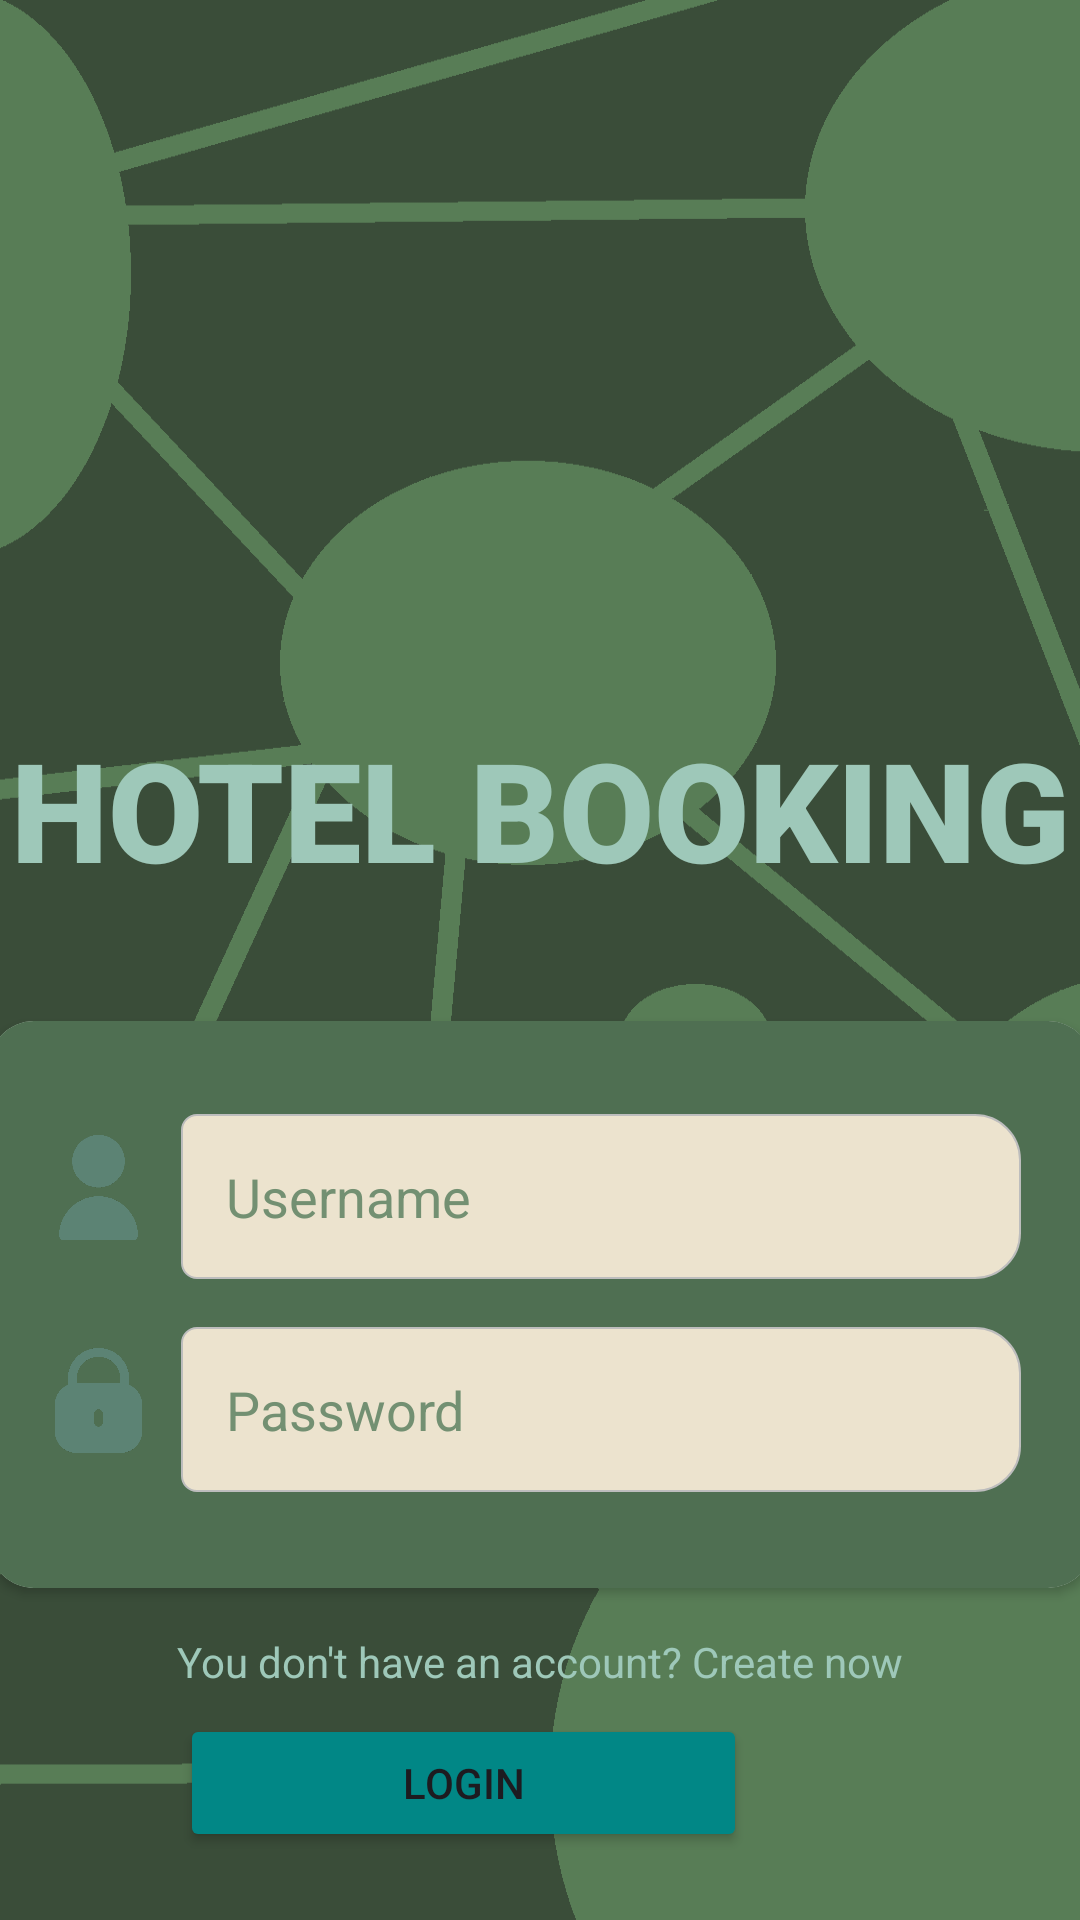

Icon bounding boxes for this 1080 × 1920 phone screenshot, format (x1, y1, x2, y2):
lock: (55, 1348, 142, 1453)
users: (59, 1135, 138, 1240)
